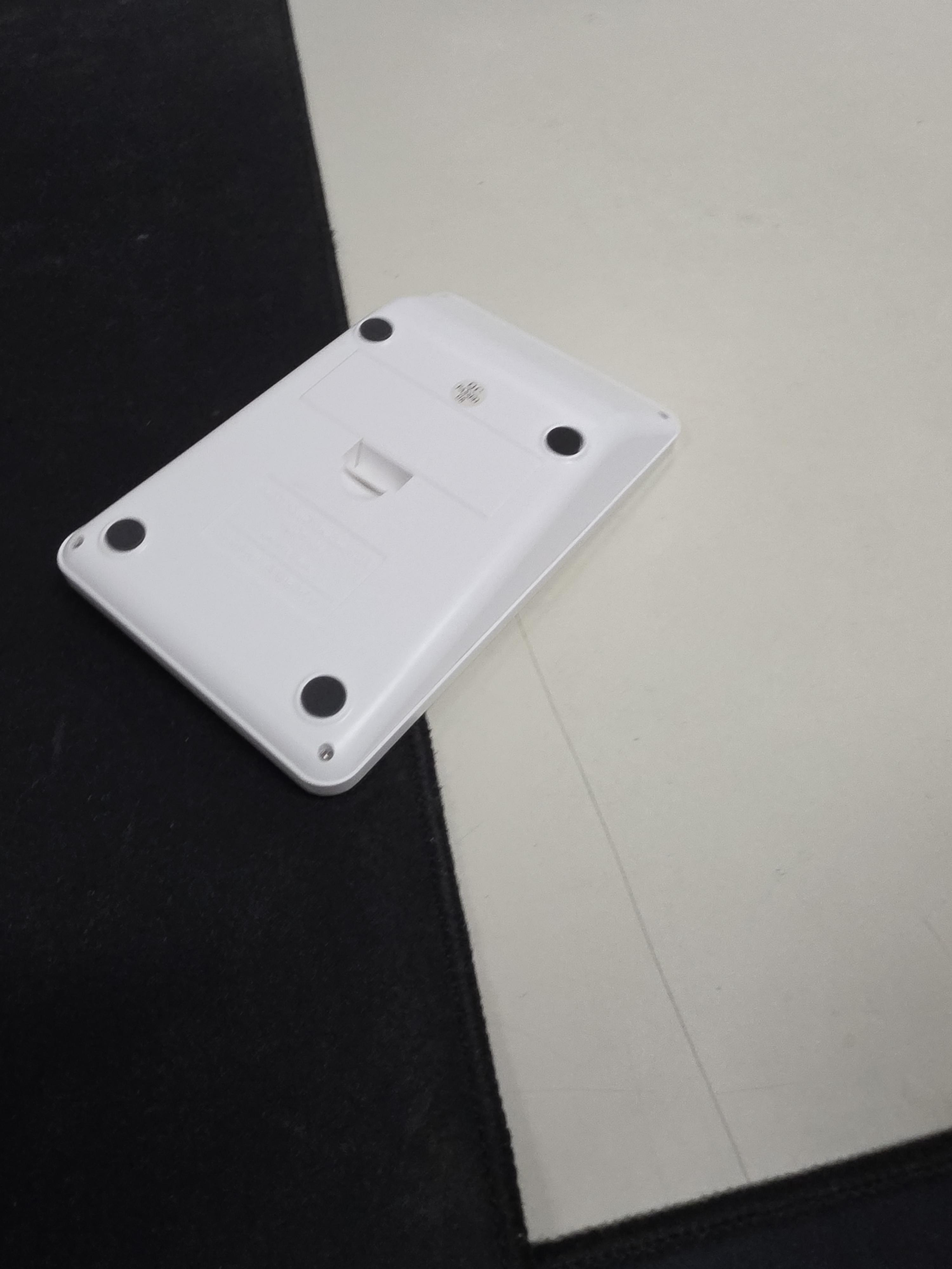calculator: (57, 291, 682, 796)
